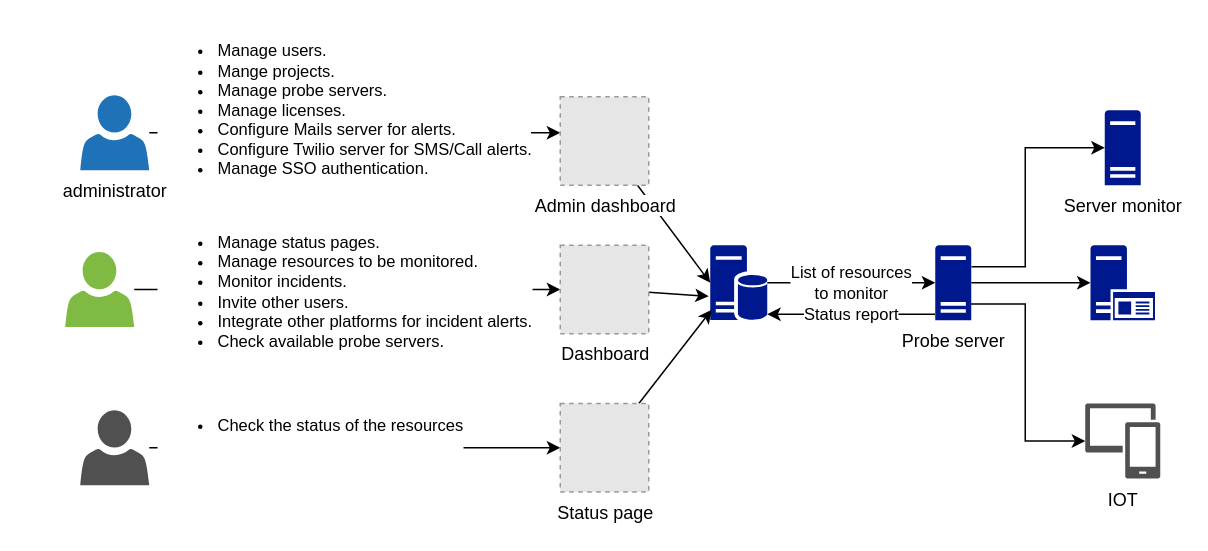
This 1208x551 diagram has some shape labels left out. Grey dashed boxes stand in for pictures. Each missing label, with the box of its shape:
backend: (710, 244, 766, 320)
unauthenticated users: (80, 410, 148, 484)
user: (64, 251, 134, 326)
Web server: (1090, 244, 1154, 320)
